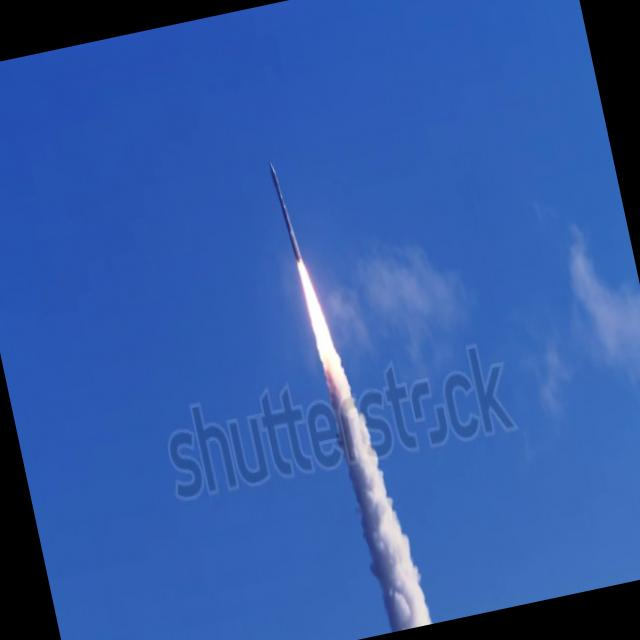rocket: (265, 152, 392, 535)
